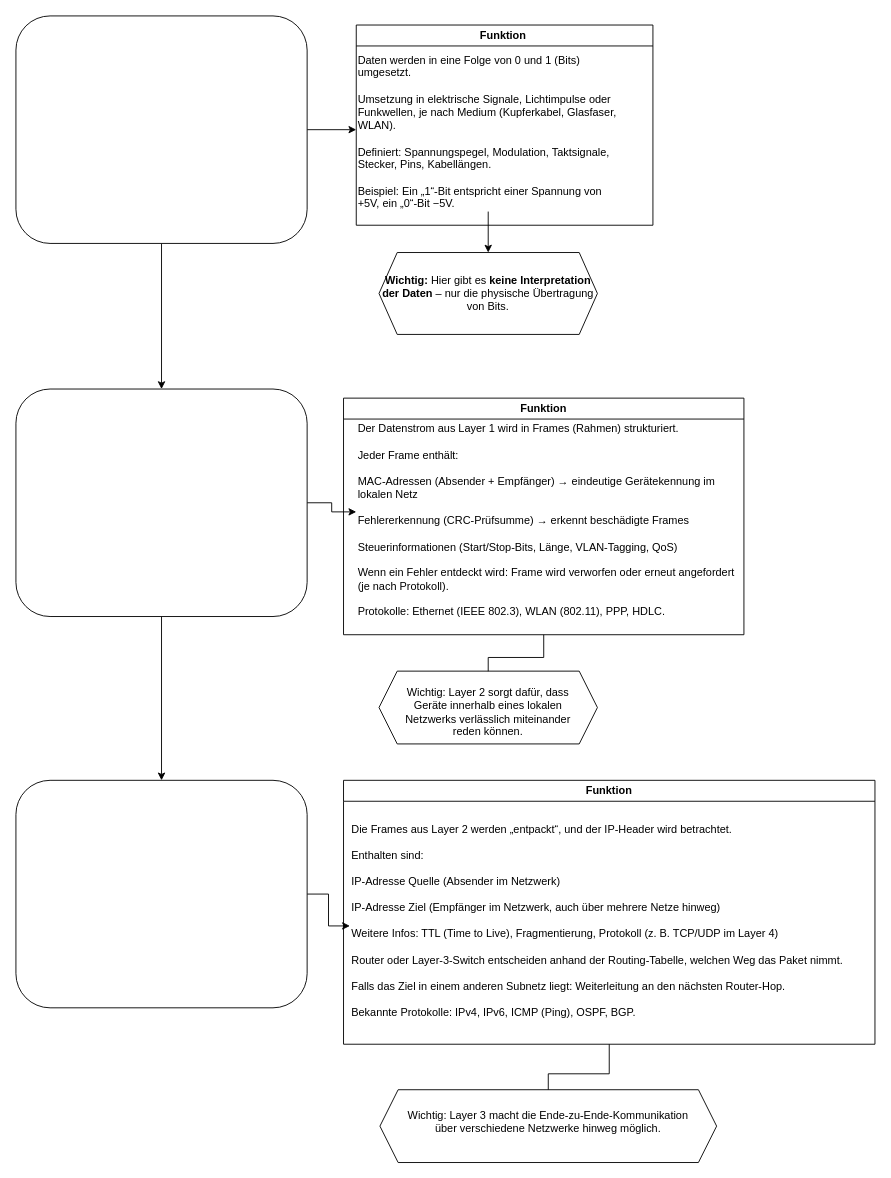
The diagram is 891 pixels wide and 1178 high, and some of its shapes have lost their labels. Each missing label, with the box of its shape:
Layer 1 Bitübertragungsschicht (Physical Layer): (15, 15, 307, 243)
Layer 2 Sicherungsschicht (Data Link Layer): (15, 388, 307, 617)
Layer 3 Netzwerkschicht (Network Layer): (15, 779, 307, 1008)
